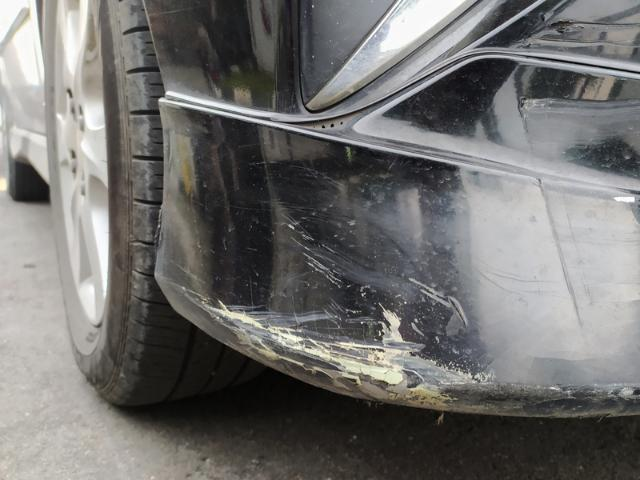Bumper: (153, 93, 576, 418)
